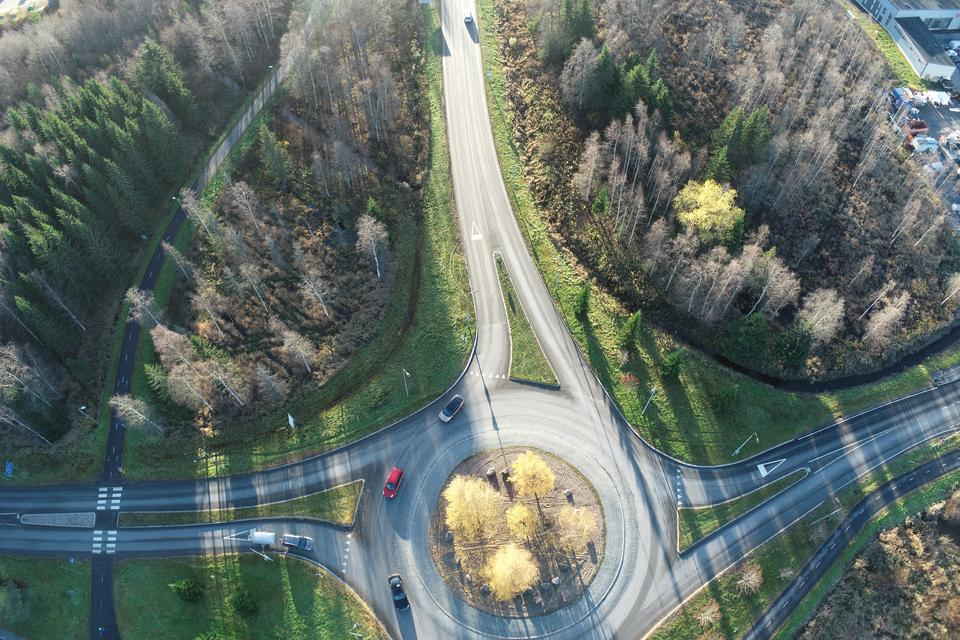intersection: (70, 454, 147, 600)
roundabout: (284, 349, 767, 640)
